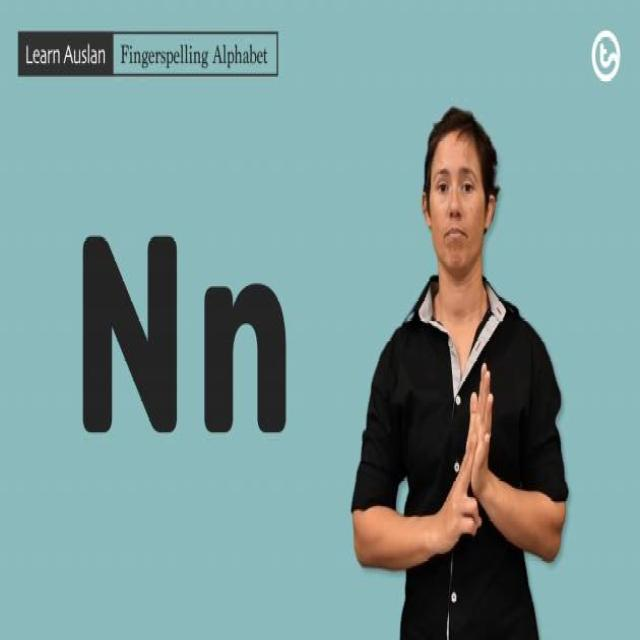N: (452, 361, 496, 546)
